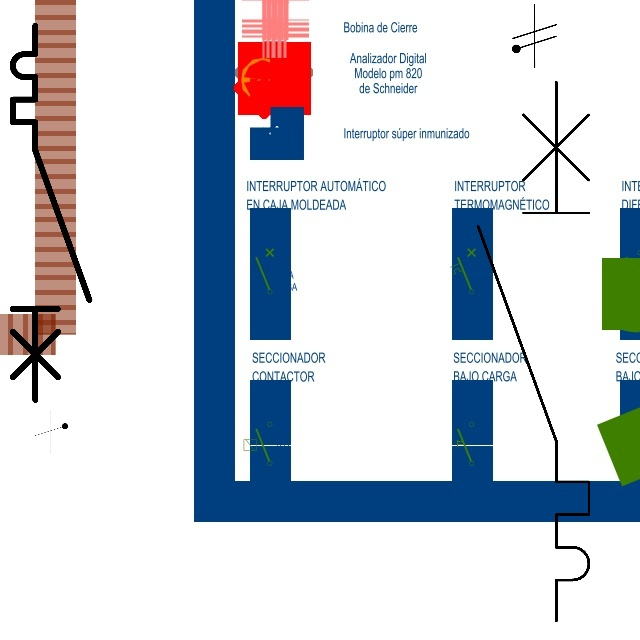interruptor_termomagnetico: (464, 68, 603, 635), (3, 16, 99, 409)
